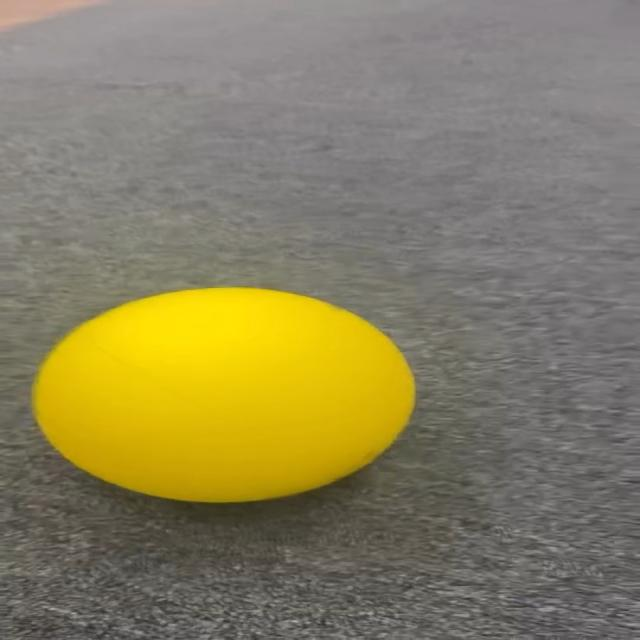Fuels: (31, 283, 412, 498)
